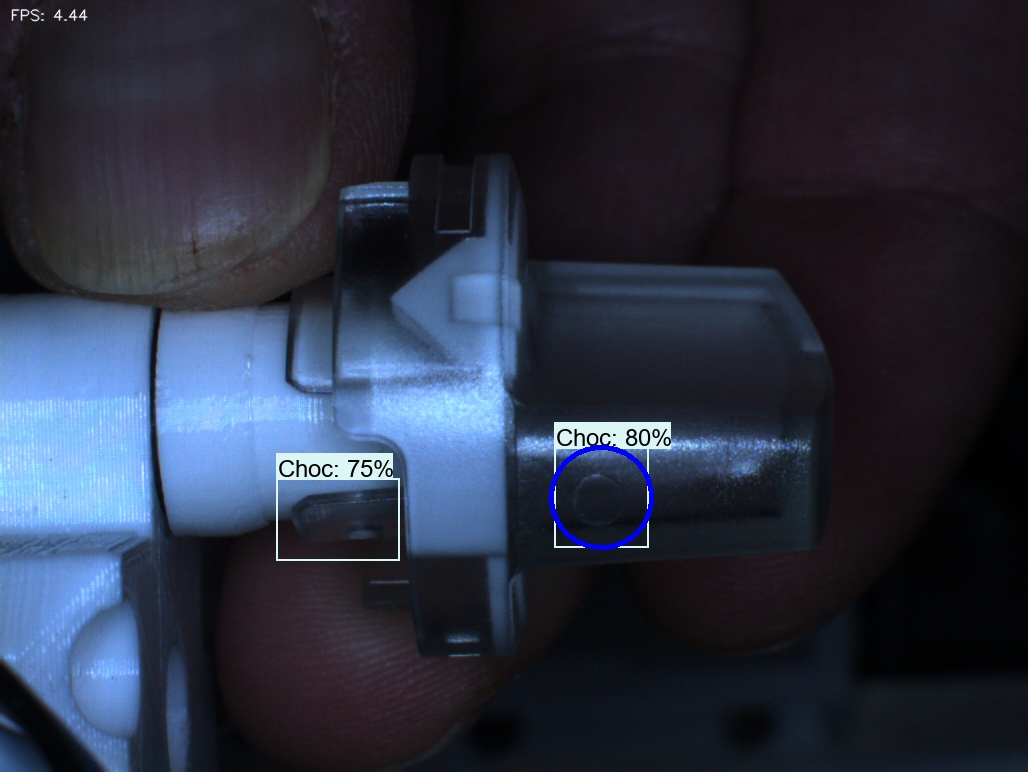DentOk: (350, 261, 438, 361)
